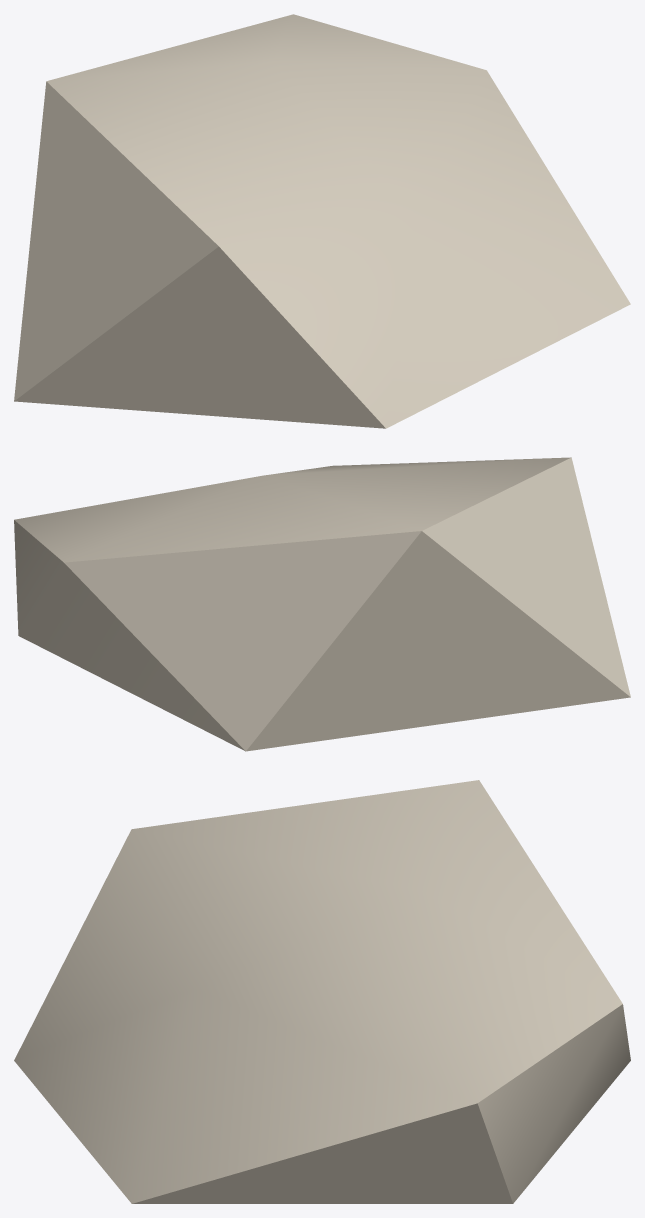
The model's file is cailloux_3.fbx.
3 views of the same model, one above another, from view 1: azimuth 30°, elevation 25°; view 2: azimuth 150°, elevation 25°; view 3: azimuth 270°, elevation 25° (orthographic). The views are drawn at different scales.
Parts seen in each view (by area): view 1: cailloux_3; view 2: cailloux_3; view 3: cailloux_3.
Part boxes in pixels (x1,y1,x2,y2): cailloux_3: (14, 14, 630, 428); cailloux_3: (14, 457, 630, 751); cailloux_3: (14, 780, 630, 1203).
Size of the model in its own units: 189 by 69.19 by 170.
